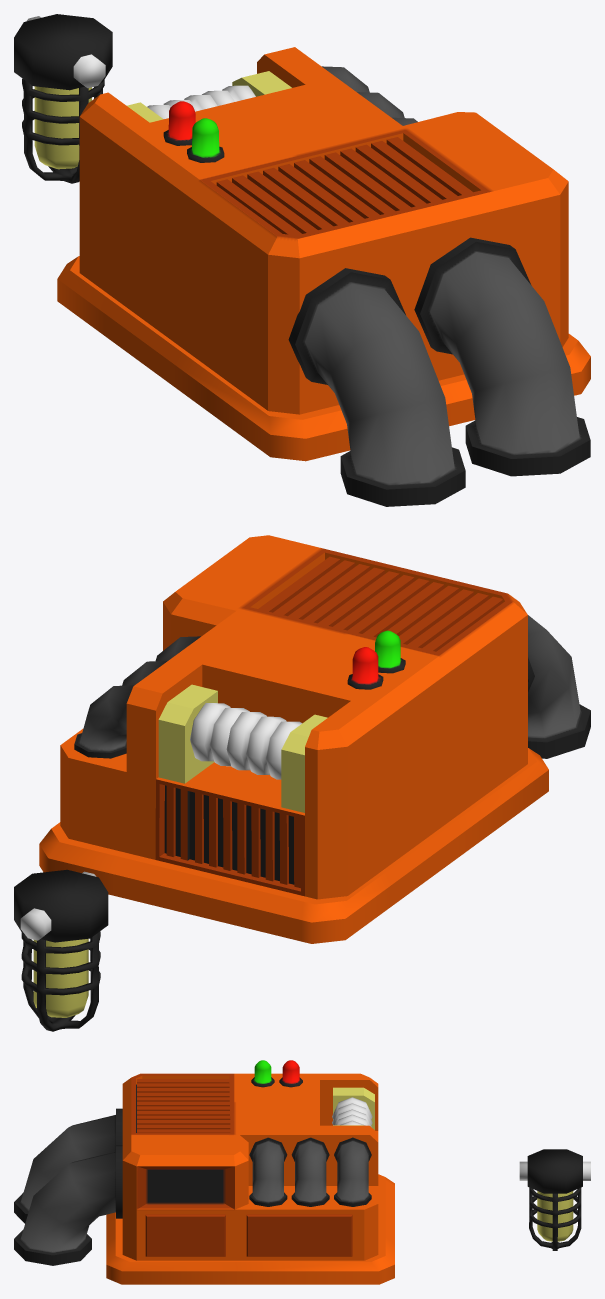
File: Iluminacao.fbx
3 views of the same model, one above another, from view 1: azimuth 30°, elevation 25°; view 2: azimuth 150°, elevation 25°; view 3: azimuth 270°, elevation 25° (orthographic). The views are drawn at different scales.
Visible parts, largest first — view 1: GeradorMina, LampadaMineracao; view 2: GeradorMina, LampadaMineracao; view 3: GeradorMina, LampadaMineracao.
Boxes of the visible parts, left/top/right/bottom form: GeradorMina: left=57, top=47, right=590, bottom=506; LampadaMineracao: left=14, top=14, right=112, bottom=183; GeradorMina: left=39, top=535, right=590, bottom=943; LampadaMineracao: left=14, top=869, right=108, bottom=1031; GeradorMina: left=14, top=1060, right=394, bottom=1284; LampadaMineracao: left=519, top=1149, right=590, bottom=1250.
Bounding box in the file's own units: 397 × 307 × 1024.
